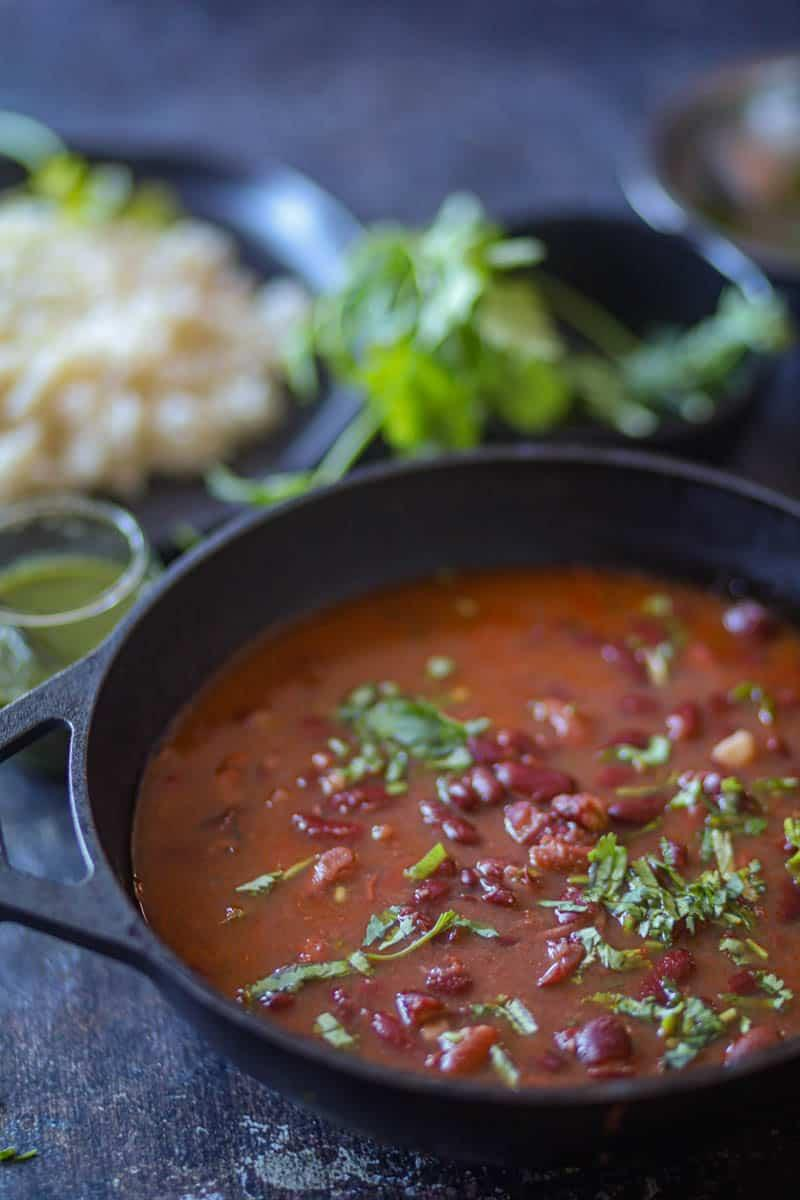rajma: (207, 513, 800, 1160)
